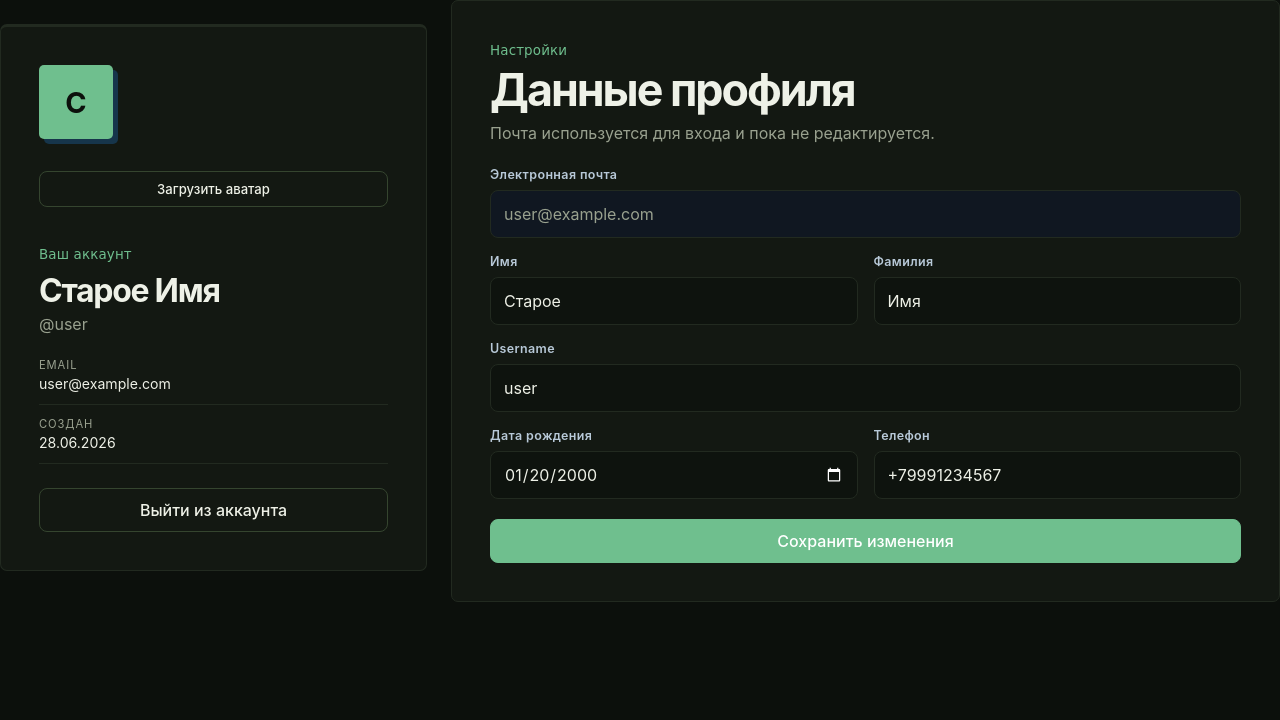
it: загружает и обновляет профиль
The width and height of the screenshot is (1280, 720).
Replace the text in the field labelled "Имя" with "Новое": x=674, y=301 [490,277,858,325]
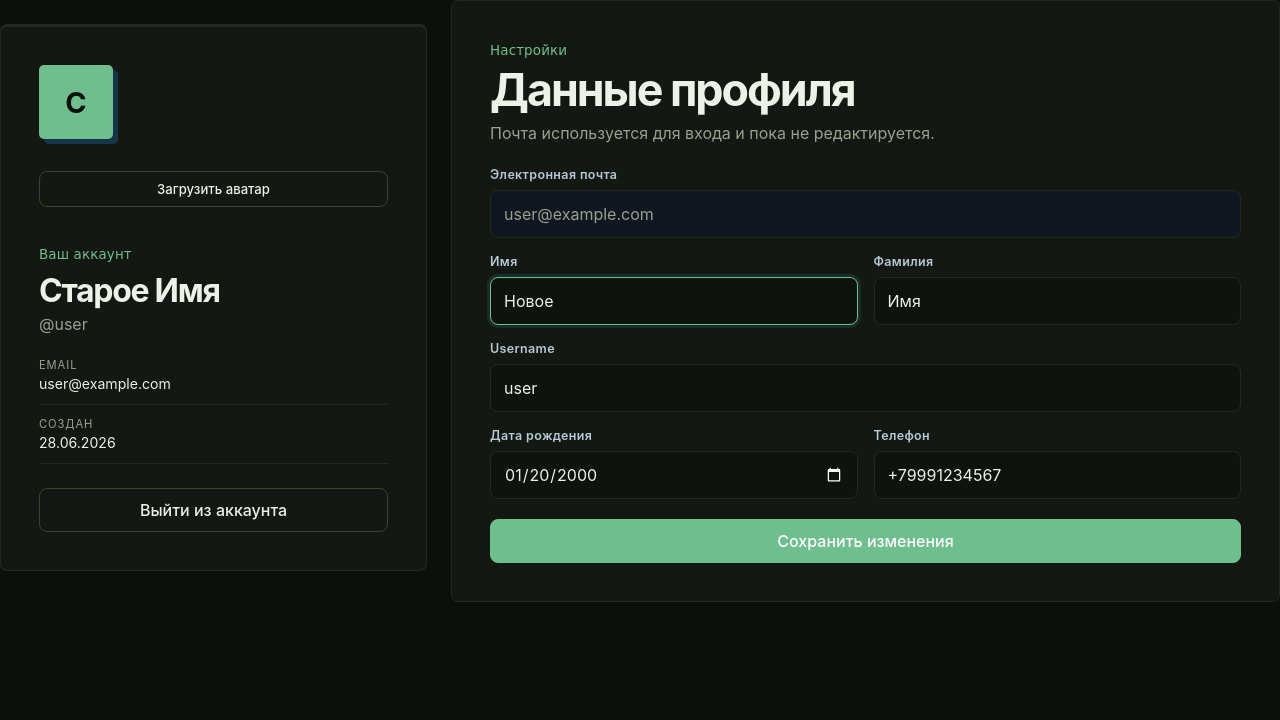
Click the button "Сохранить изменения": x=866, y=541 [490,519,1241,563]
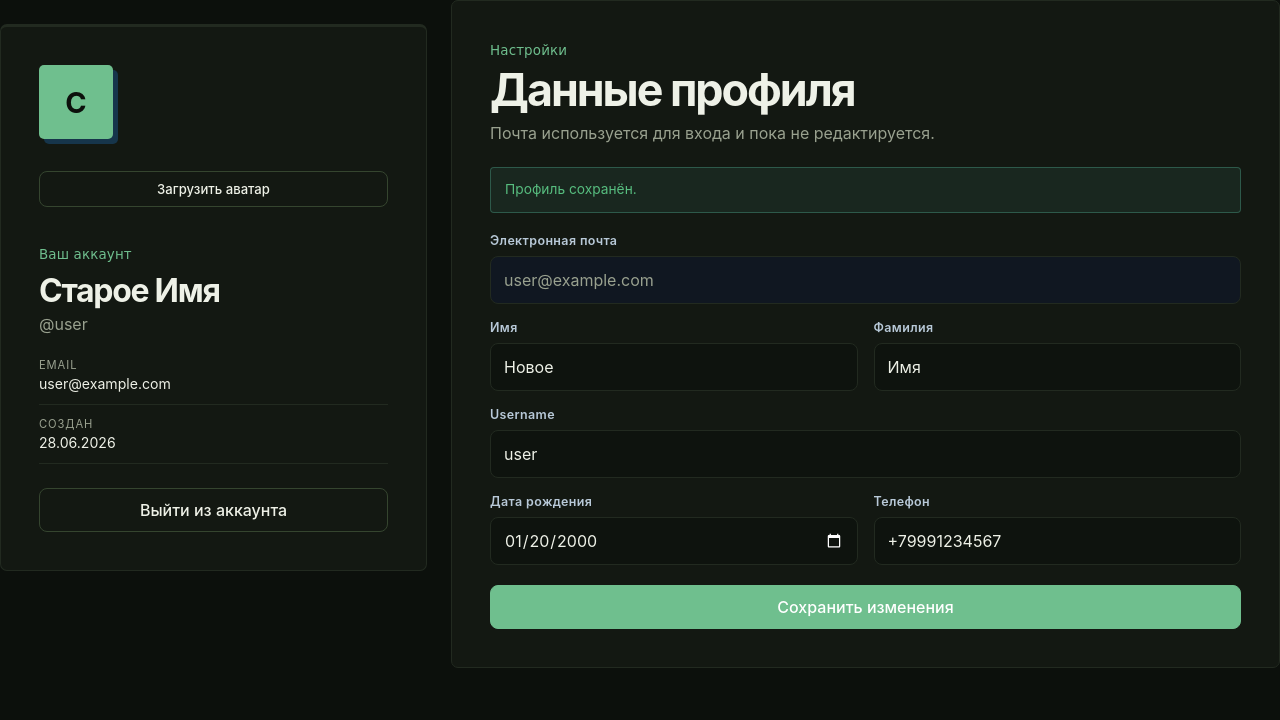
Now the text "Профиль сохранён." is shown, box [490,167,1241,213]
